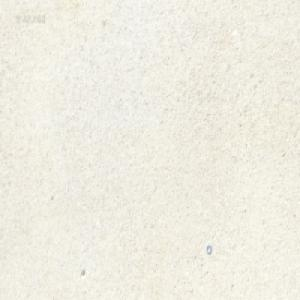Washer: (206, 244, 211, 254)
